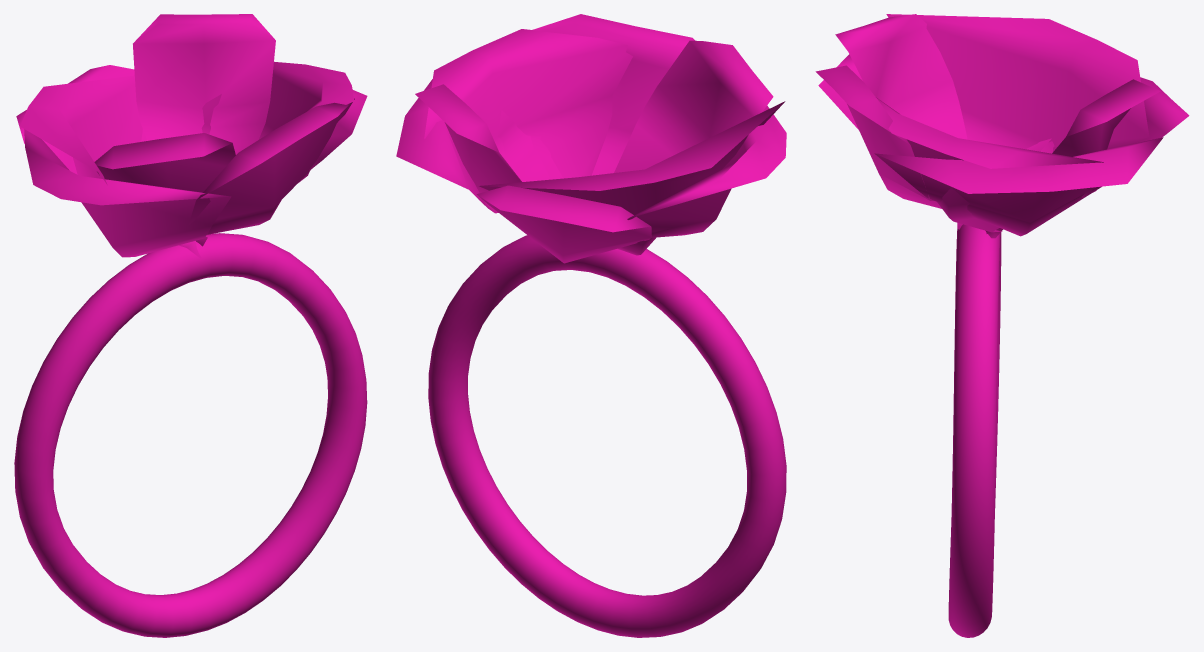
The model's file is rose.glb.
3 views of the same model, side by side, from view 1: azimuth 30°, elevation 25°; view 2: azimuth 150°, elevation 25°; view 3: azimuth 270°, elevation 25° (orthographic). The views are drawn at different scales.
Visible parts, largest first — view 1: BézierCurve.001; view 2: BézierCurve.001; view 3: BézierCurve.001.
Boxes of the visible parts, x1=… form: BézierCurve.001: x1=14, y1=14, x2=367, y2=637; BézierCurve.001: x1=396, y1=14, x2=786, y2=637; BézierCurve.001: x1=815, y1=14, x2=1189, y2=637.
Size of the model in its own units: 27.55 by 41.62 by 24.73.
